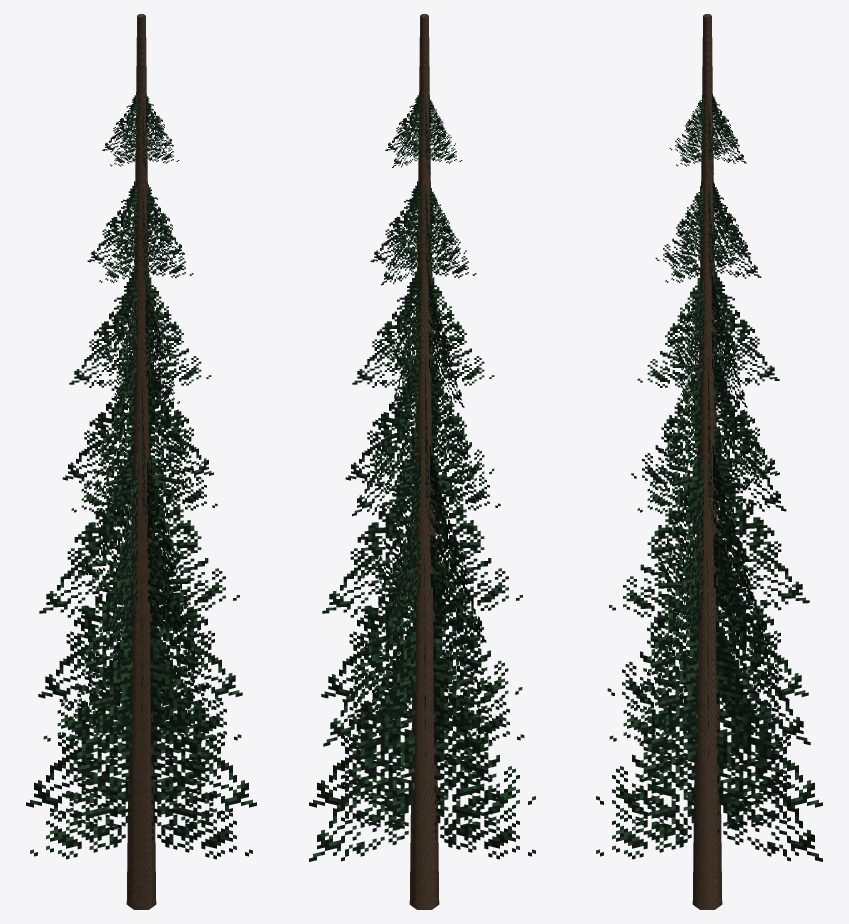
Rendered from pine_tall.glb.
The picture shows the model from 3 angles, left to right: view 1: azimuth 30°, elevation 25°; view 2: azimuth 150°, elevation 25°; view 3: azimuth 270°, elevation 25°; orthographic projection.
Parts seen in each view (by area): view 1: pine_tall; view 2: pine_tall; view 3: pine_tall.
Boxes of the visible parts, <box> form: pine_tall: <box>26,14,256,909</box>; pine_tall: <box>309,14,535,909</box>; pine_tall: <box>596,14,822,909</box>.
Size of the model in its own units: 4.2 by 14 by 3.64.
2 materials, 2 textured.
